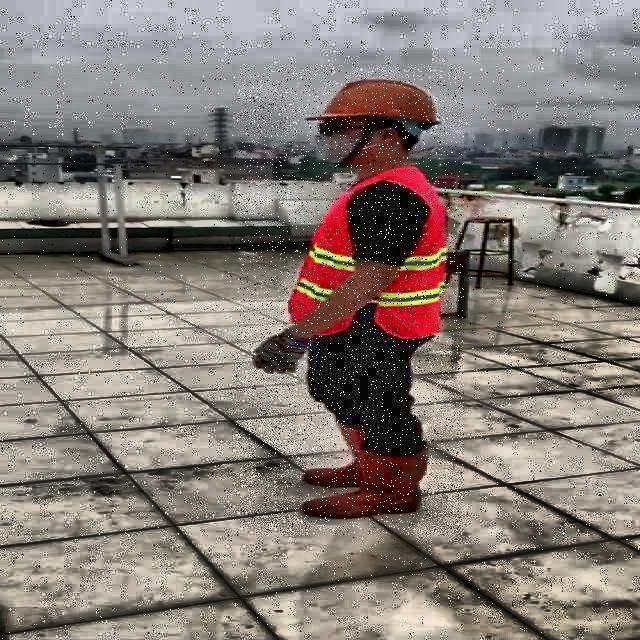safety_helmet: (314, 76, 443, 130)
safety_jacket: (284, 169, 448, 338)
